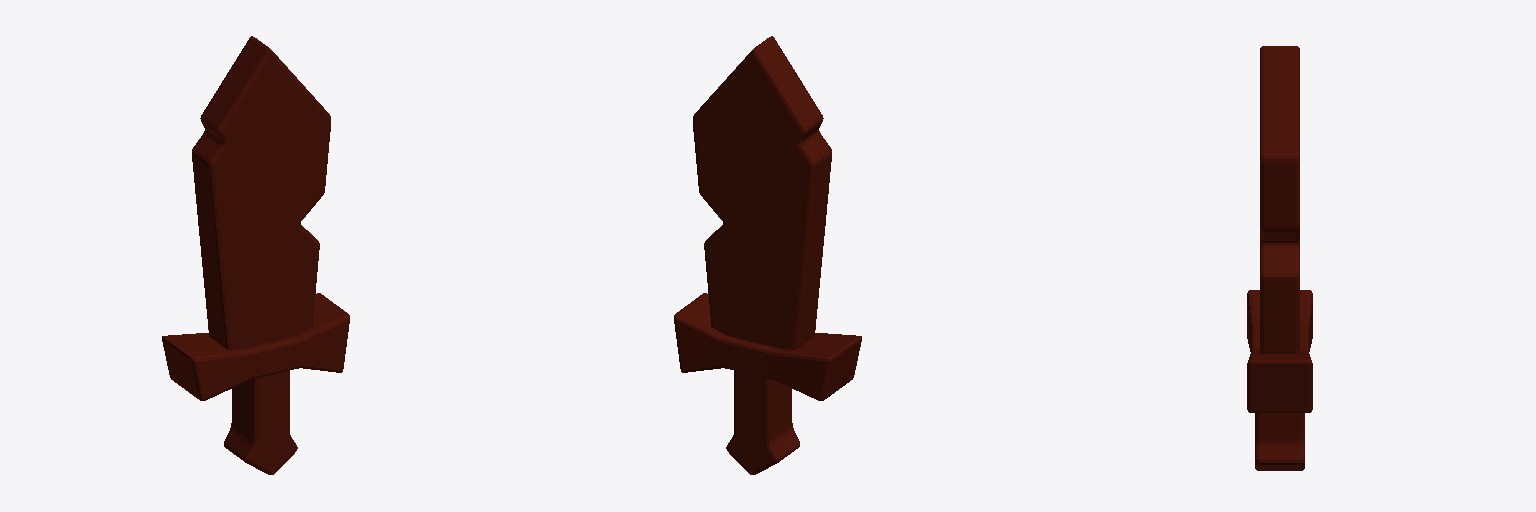
The model's file is training_sword.obj.
3 renders of one model, left to right at view 1: azimuth 30°, elevation 25°; view 2: azimuth 150°, elevation 25°; view 3: azimuth 270°, elevation 25°, orthographic.
Visible parts, largest first — view 1: training_sword_Cube.176; view 2: training_sword_Cube.176; view 3: training_sword_Cube.176.
Part boxes in pixels (x1,y1,x2,y2): training_sword_Cube.176: (162, 36, 349, 474); training_sword_Cube.176: (674, 36, 861, 474); training_sword_Cube.176: (1247, 46, 1312, 470).
Size of the model in its own units: 0.3896 by 0.9964 by 0.1399.